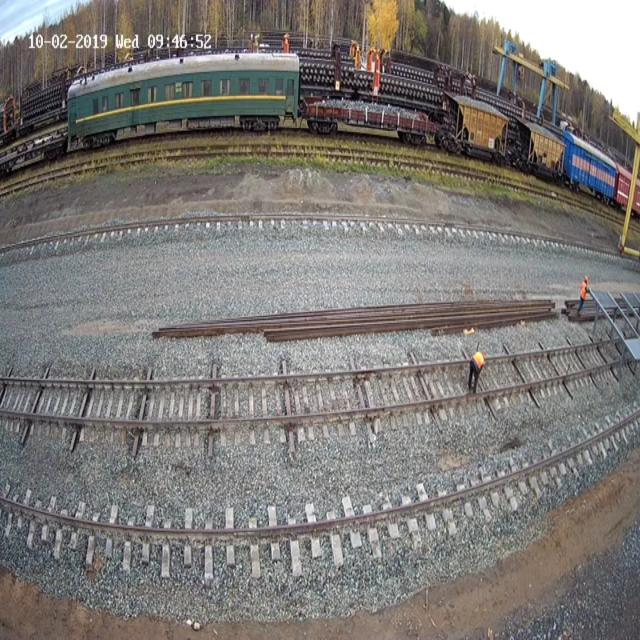Person: (467, 351, 486, 393), (577, 275, 588, 316)
